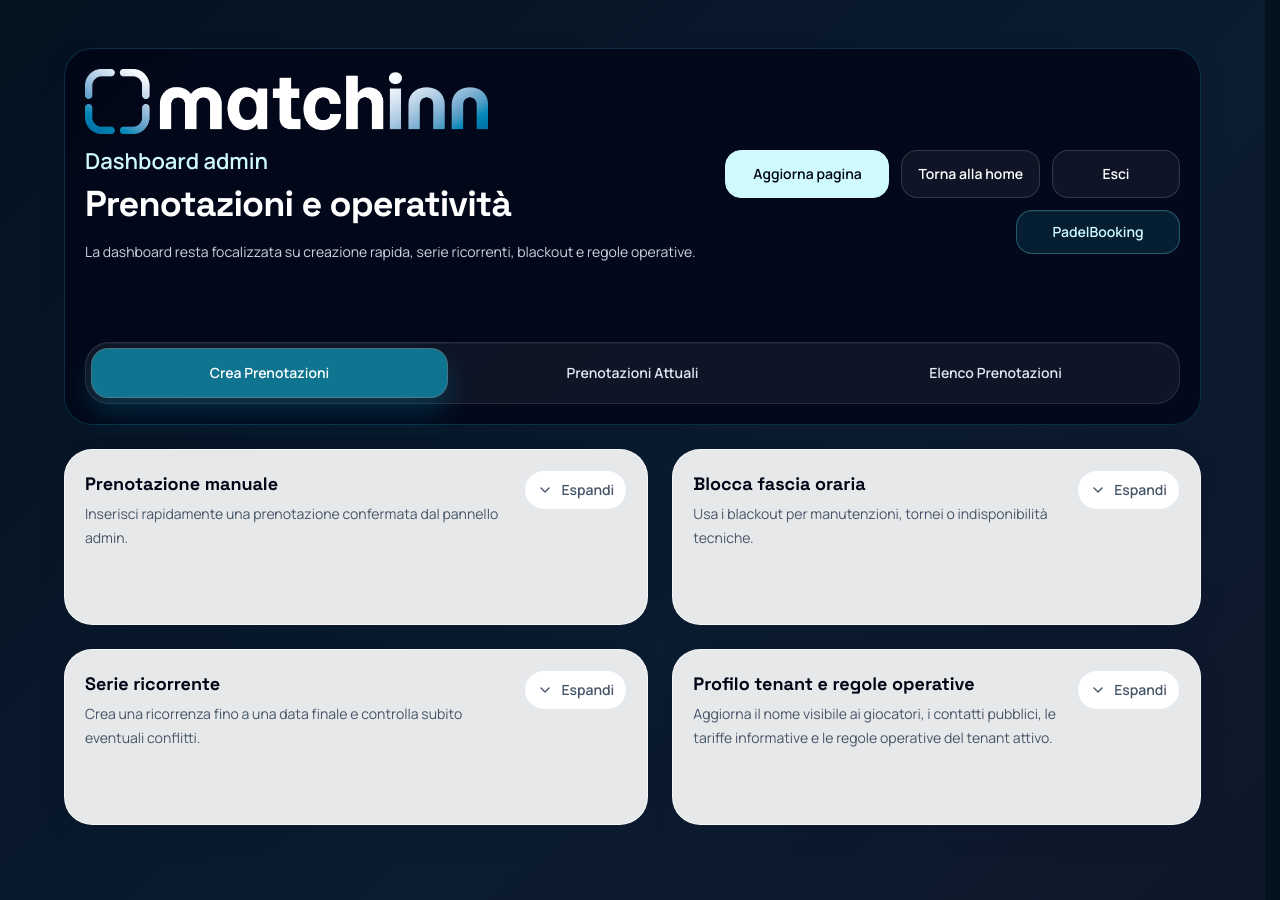
Test: AdminDashboardPage › submits a manual booking after selecting a slot from the compact picker
Expected: the text "Dashboard admin" is shown, [85,146,268,176]
Click the button with aria-label "Espandi Prenotazione manuale".
click(576, 490)  # box [524,470,627,510]
(page scrolled)
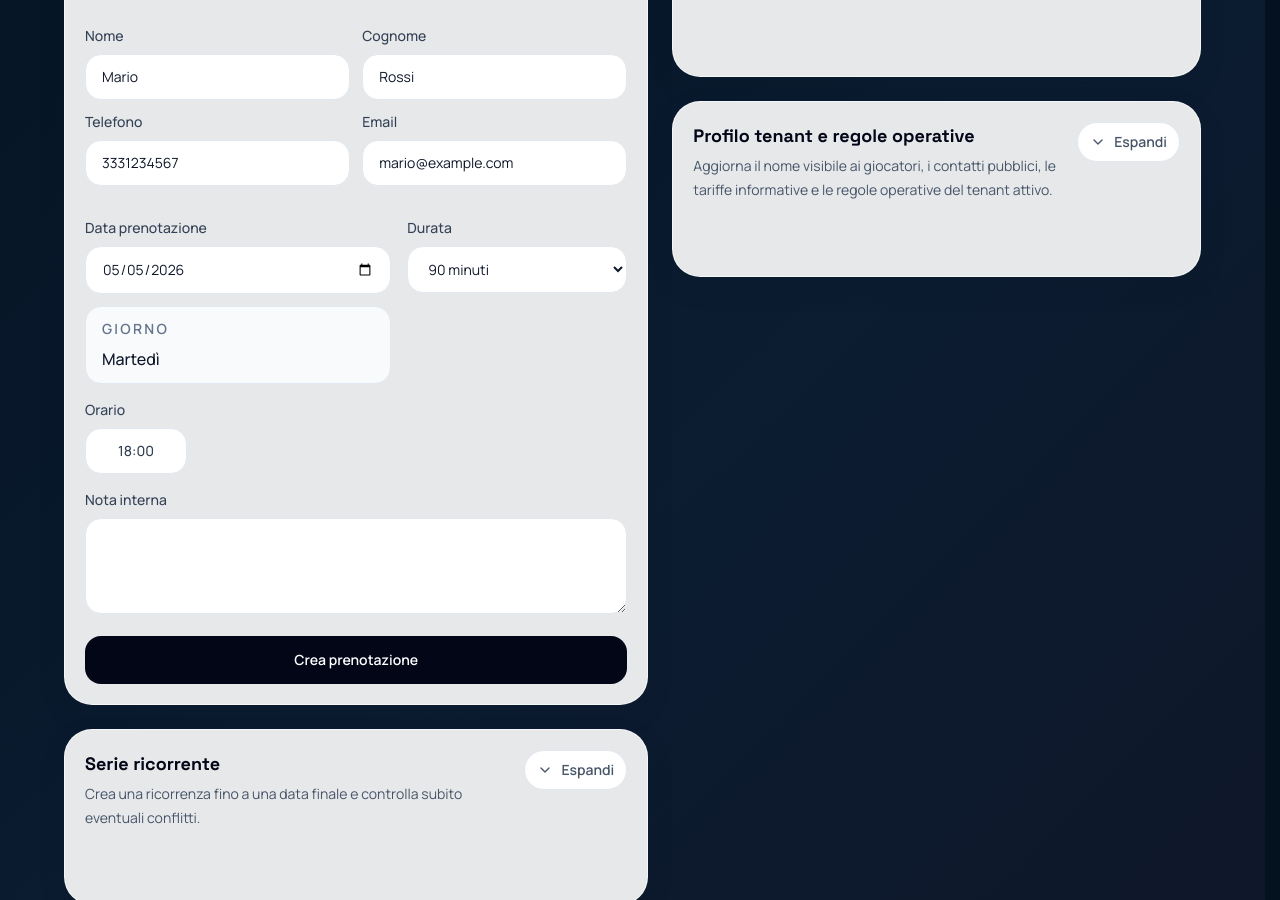
Expected: the button "18:00" is shown
Click the button "18:00".
click(136, 451)  # box [85,428,187,474]
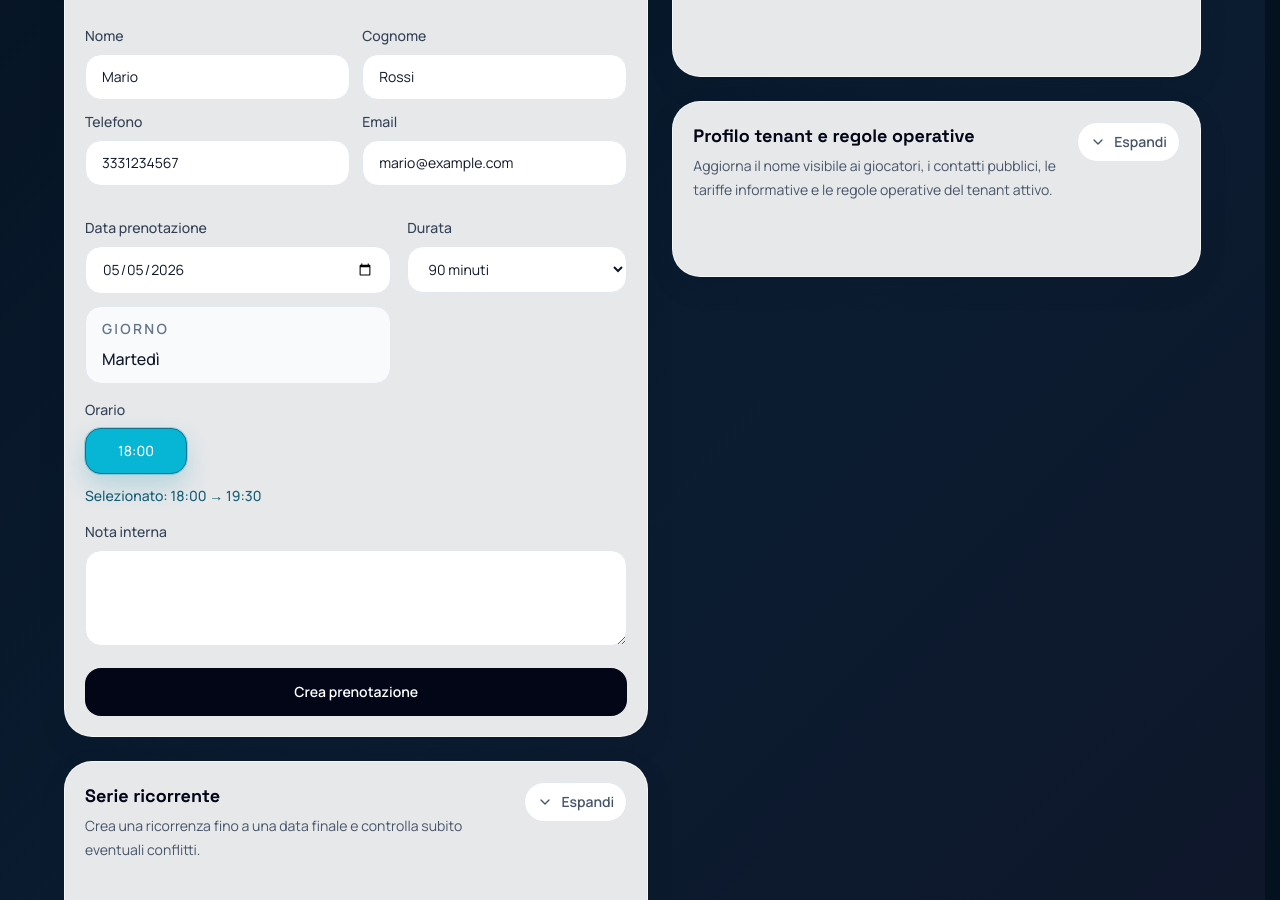
Click the button "Crea prenotazione".
click(356, 692)  # box [85,668,627,716]
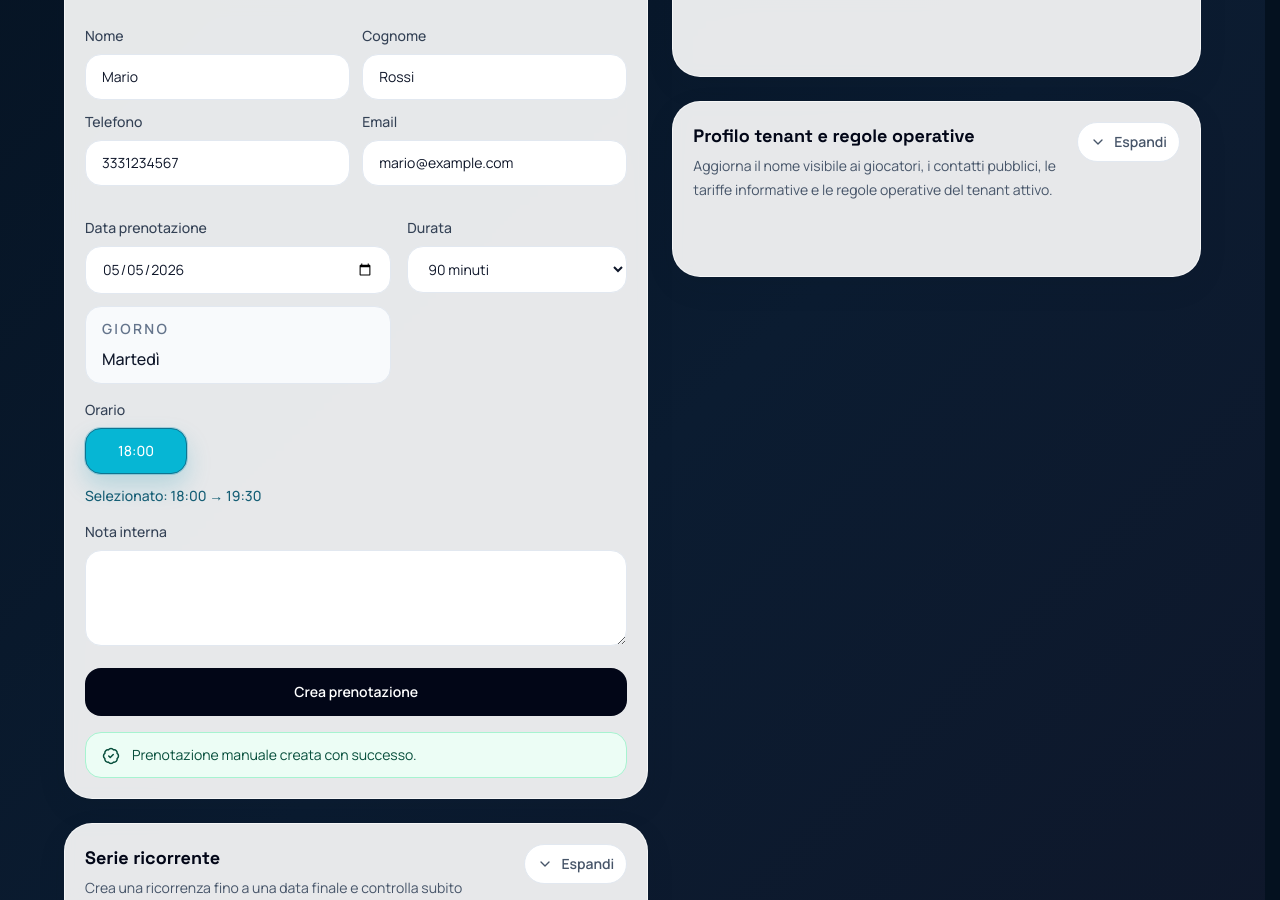
Expected: the text "Prenotazione manuale creata con successo." is shown, [132,745,417,765]
